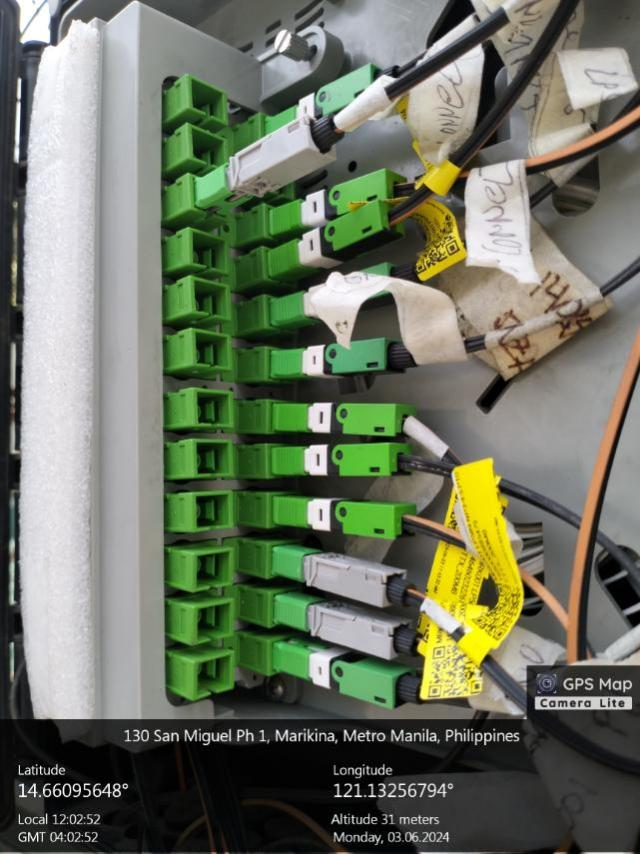no dust cap: (190, 228, 232, 273), (188, 77, 228, 122), (195, 652, 233, 699), (193, 600, 234, 642), (194, 550, 233, 593), (194, 493, 237, 531), (193, 330, 232, 371), (190, 126, 229, 167), (193, 279, 230, 320), (262, 150, 294, 197), (194, 388, 233, 426), (196, 440, 235, 474)
occupied: (196, 106, 338, 218), (267, 194, 412, 287), (264, 58, 400, 153), (275, 640, 428, 713), (271, 257, 420, 331), (274, 593, 421, 665), (271, 163, 410, 235), (272, 544, 413, 614), (275, 497, 422, 542), (271, 337, 417, 376), (271, 441, 416, 478), (271, 403, 414, 435)
